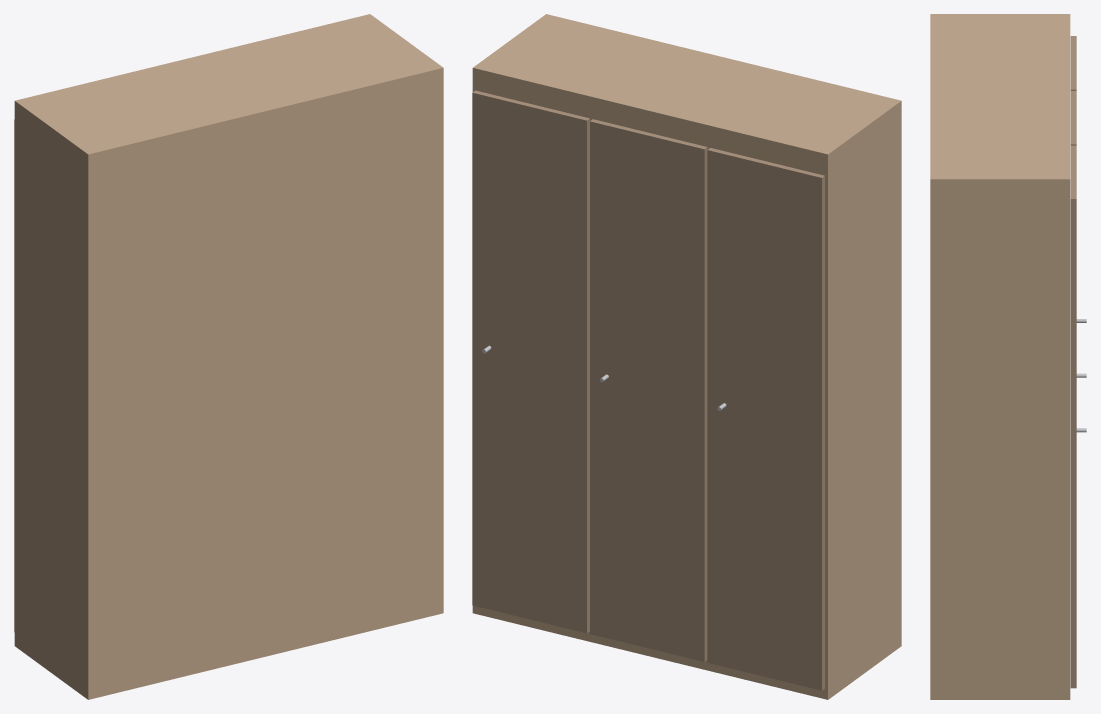
Rendered from wardrobe-3.glb.
3 views of the same model, side by side, from view 1: azimuth 30°, elevation 25°; view 2: azimuth 150°, elevation 25°; view 3: azimuth 270°, elevation 25° (orthographic). The views are drawn at different scales.
Visible parts, largest first — view 1: body_0; view 2: body_0, door_5, door_1, door_3; view 3: body_0, door_5, door_3, door_1.
Part boxes in pixels (x1,y1,x2,y2): body_0: [14, 14, 443, 699]; body_0: [472, 14, 901, 699]; door_5: [472, 90, 589, 633]; door_1: [707, 148, 824, 690]; door_3: [590, 119, 707, 661]; body_0: [930, 14, 1070, 699]; door_5: [1070, 145, 1076, 688]; door_3: [1070, 91, 1076, 145]; door_1: [1070, 36, 1076, 90].
Bounding box in the file's own units: 1.5 × 2.2 × 0.6.
